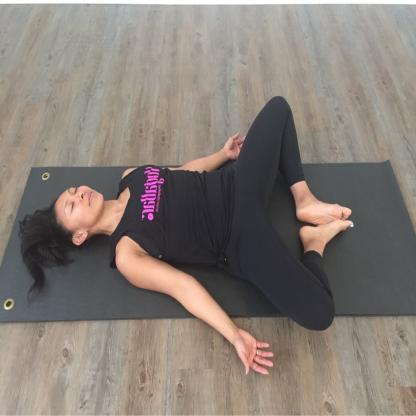godness: (17, 86, 366, 385)
